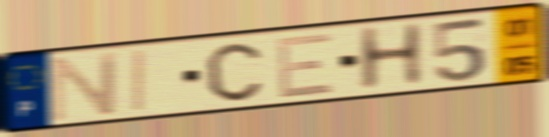5: (430, 14, 491, 85)
C: (203, 40, 265, 104)
E: (274, 29, 337, 101)
H: (354, 20, 427, 95)
I: (130, 47, 150, 116)
N: (49, 49, 122, 124)
